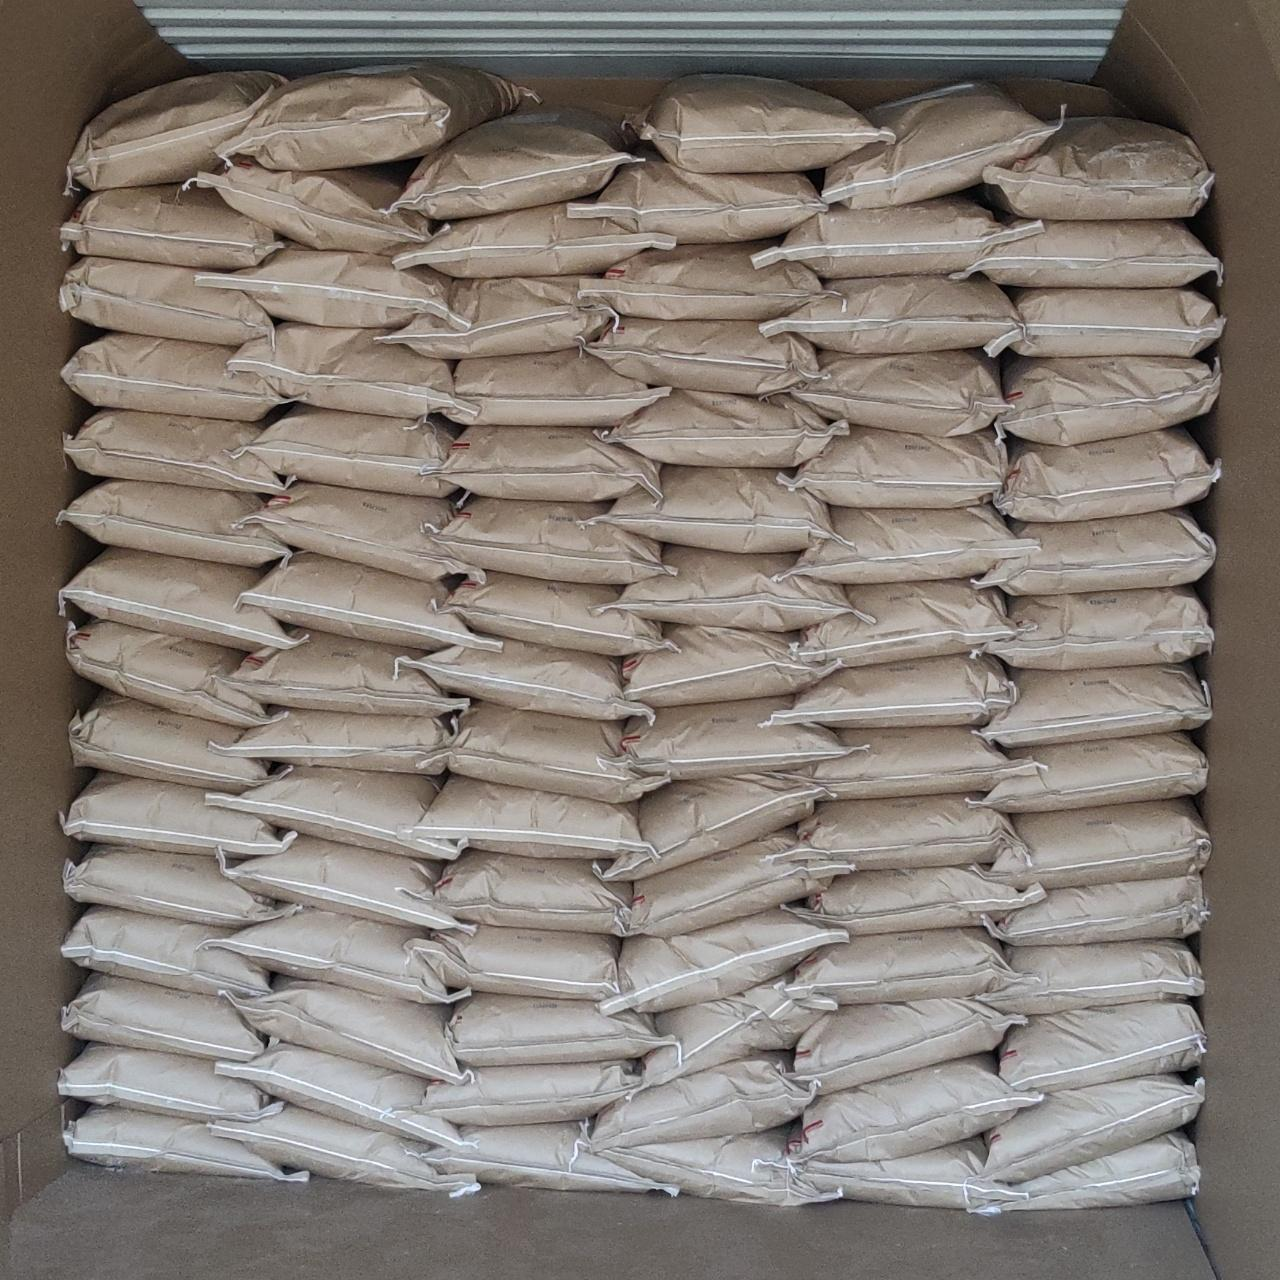sack: (217, 66, 539, 171), (215, 1037, 472, 1152), (822, 83, 1058, 207), (376, 109, 636, 219), (64, 72, 287, 198), (788, 1054, 1044, 1162), (600, 906, 847, 1015), (222, 979, 471, 1085), (231, 481, 485, 585), (234, 552, 501, 652), (200, 906, 470, 1003), (207, 1105, 481, 1198), (219, 836, 476, 934), (59, 547, 304, 651), (636, 75, 892, 173), (592, 774, 824, 881), (420, 701, 663, 803), (979, 1073, 1203, 1183), (751, 195, 1043, 279), (205, 765, 463, 860), (583, 1051, 817, 1155), (66, 619, 285, 729), (629, 829, 852, 937), (173, 162, 433, 254), (226, 322, 475, 418), (983, 117, 1213, 220), (592, 546, 869, 632), (69, 690, 297, 794), (564, 155, 823, 243), (196, 246, 469, 329), (583, 465, 838, 553), (794, 998, 1023, 1094), (399, 775, 655, 860), (425, 495, 672, 584), (994, 427, 1219, 522), (642, 976, 836, 1087), (227, 404, 457, 497), (971, 509, 1216, 595), (392, 203, 674, 278), (394, 639, 653, 720), (222, 632, 469, 716), (781, 503, 1037, 584), (994, 356, 1220, 448), (433, 572, 678, 656), (61, 333, 295, 421), (599, 697, 850, 779), (792, 581, 1035, 666), (760, 275, 1017, 354), (57, 481, 290, 567), (990, 797, 1210, 888), (399, 849, 629, 935), (772, 794, 1027, 872), (785, 927, 1024, 1010), (61, 772, 297, 857), (595, 388, 847, 467), (969, 1130, 1200, 1216), (967, 731, 1207, 813), (63, 409, 292, 495), (64, 845, 302, 927), (762, 652, 1017, 728), (983, 586, 1213, 670), (61, 905, 270, 998), (60, 184, 282, 271), (377, 275, 610, 359), (421, 1119, 678, 1194), (577, 241, 821, 320), (622, 624, 839, 712), (788, 350, 1010, 436), (777, 425, 1007, 508), (980, 665, 1210, 747), (60, 257, 273, 345), (63, 1105, 309, 1182), (999, 1001, 1204, 1092), (600, 1126, 838, 1205), (784, 865, 1046, 935), (443, 346, 669, 427), (587, 316, 819, 395), (792, 1138, 1030, 1213), (960, 220, 1223, 288), (797, 727, 1039, 799), (427, 425, 660, 501), (62, 973, 261, 1060), (979, 940, 1203, 1016), (449, 993, 682, 1065), (983, 287, 1224, 358), (57, 1044, 282, 1119), (210, 710, 464, 775), (406, 925, 618, 1001), (396, 1060, 640, 1125), (983, 874, 1208, 945), (972, 648, 981, 658)
